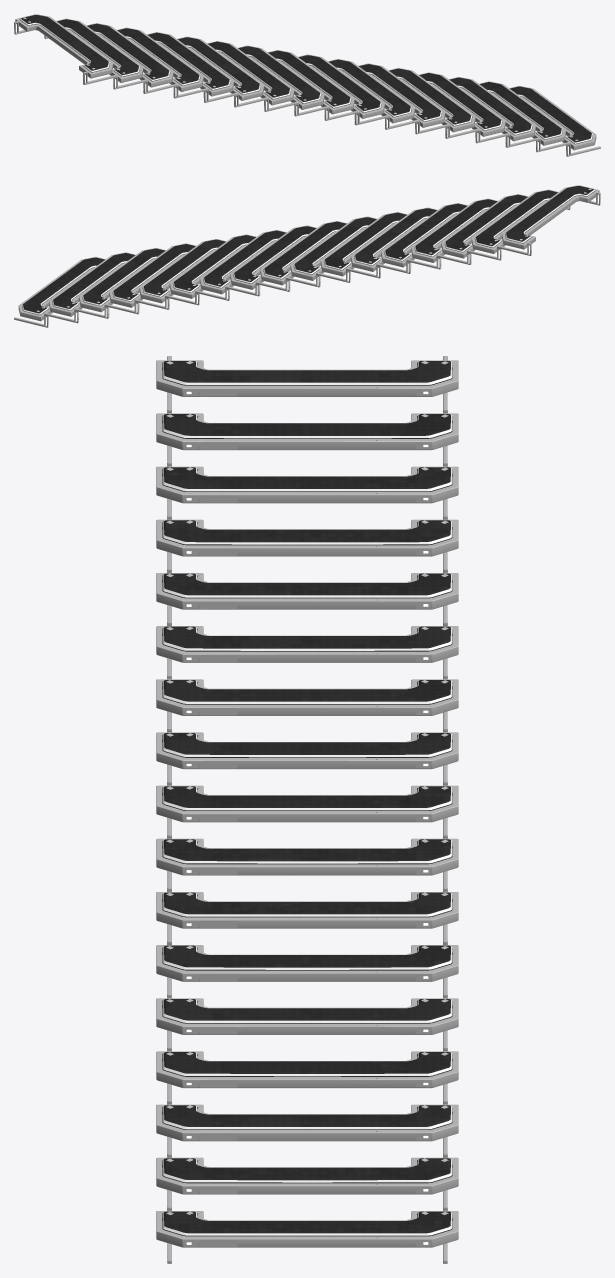
The model's file is SM_Stairs_3_Merged.fbx.
3 views of the same model, one above another, from view 1: azimuth 30°, elevation 25°; view 2: azimuth 150°, elevation 25°; view 3: azimuth 270°, elevation 25° (orthographic). The views are drawn at different scales.
Parts seen in each view (by area): view 1: SM_Stairs_3_Merged_LOD0; view 2: SM_Stairs_3_Merged_LOD0; view 3: SM_Stairs_3_Merged_LOD0.
Part boxes in pixels (x1,y1,x2,y2): SM_Stairs_3_Merged_LOD0: (14,14,600,156); SM_Stairs_3_Merged_LOD0: (14,185,600,327); SM_Stairs_3_Merged_LOD0: (156,356,458,1263).
Bounding box in the file's own units: 685 × 174 × 257.
